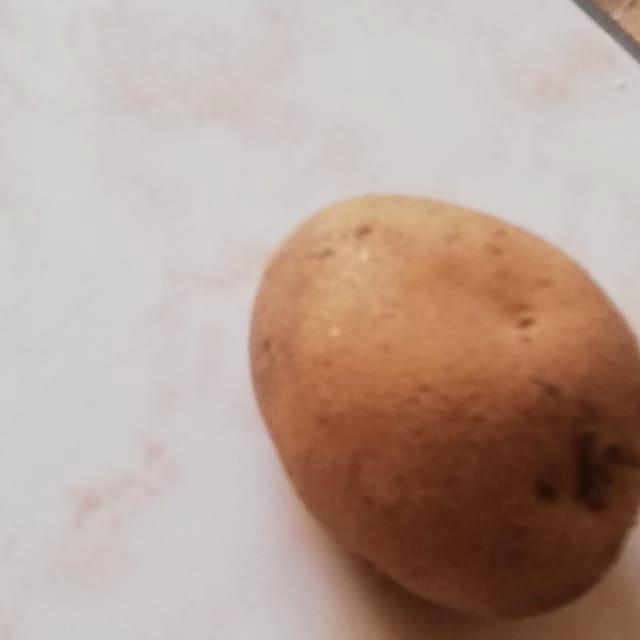potato: (242, 165, 640, 632)
